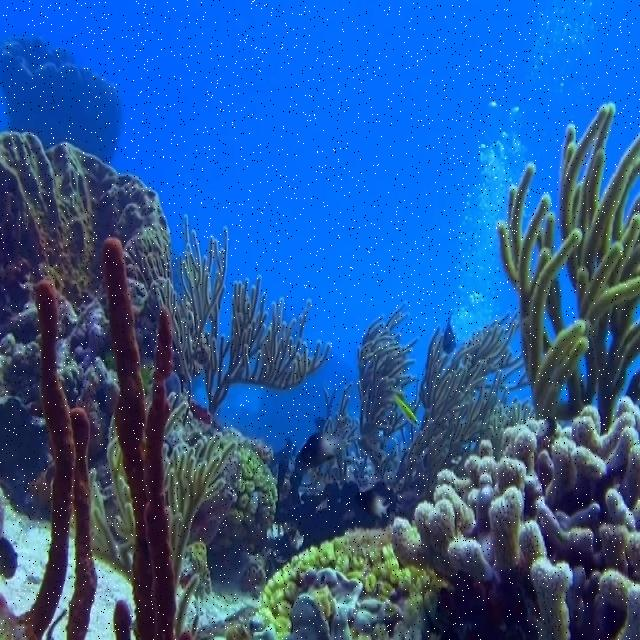reefs: (388, 400, 639, 639), (316, 297, 536, 517), (499, 102, 639, 434), (155, 212, 332, 415), (0, 280, 97, 639), (104, 235, 177, 639), (226, 529, 430, 639)
